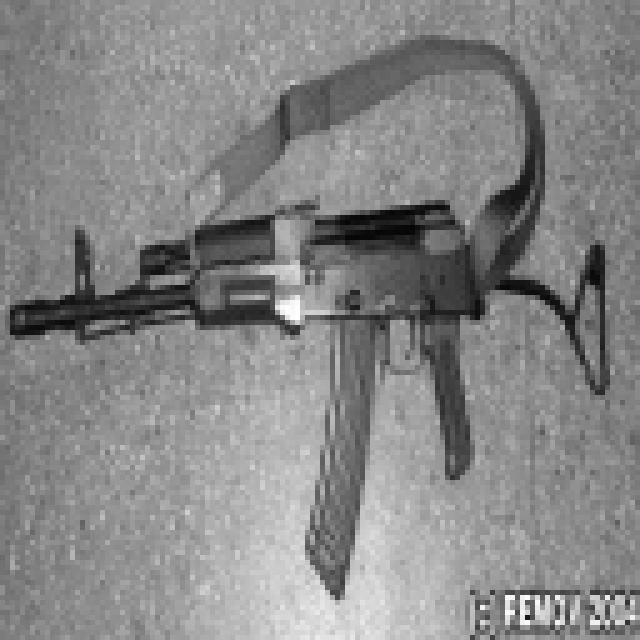Rifle: (0, 29, 620, 609)
